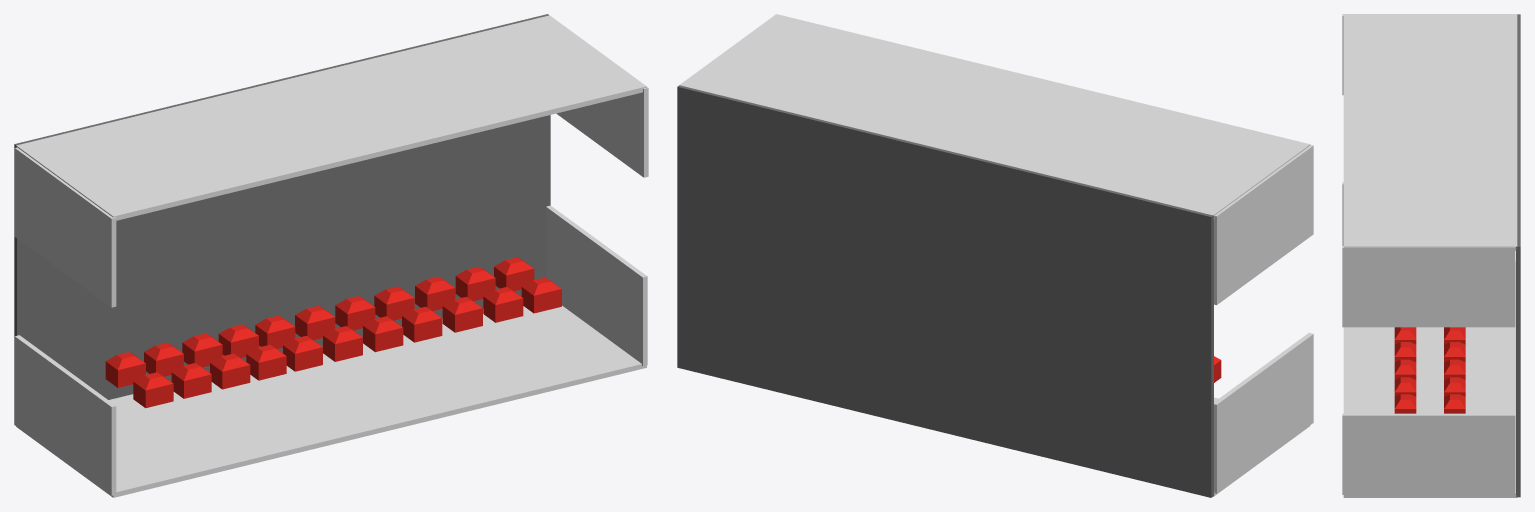
Rendered from molten.gltf.
The picture shows the model from 3 angles, left to right: view 1: azimuth 30°, elevation 25°; view 2: azimuth 150°, elevation 25°; view 3: azimuth 270°, elevation 25°; orthographic projection. The views are drawn at different scales.
Parts seen in each view (by area): view 1: Cube, Cube.002, Cube.001, Cube.018, Cube.005, Cube.003, Cube.004, Cube.006; view 2: Cube, Cube.002, Cube.005, Cube.003; view 3: Cube.002, Cube.004, Cube.006, Cube.001, Cube.018, Cube.
Boxes of the visible parts, x1=… form: Cube: x1=14, y1=14, x2=550, y2=426; Cube.002: x1=16, y1=15, x2=646, y2=220; Cube.001: x1=16, y1=305, x2=646, y2=497; Cube.018: x1=105, y1=257, x2=561, y2=408; Cube.005: x1=14, y1=335, x2=116, y2=495; Cube.003: x1=14, y1=147, x2=116, y2=307; Cube.004: x1=546, y1=205, x2=647, y2=365; Cube.006: x1=556, y1=87, x2=648, y2=177; Cube: x1=677, y1=85, x2=1213, y2=497; Cube.002: x1=679, y1=14, x2=1310, y2=219; Cube.005: x1=1214, y1=332, x2=1313, y2=493; Cube.003: x1=1214, y1=144, x2=1313, y2=305; Cube.002: x1=1343, y1=14, x2=1517, y2=250; Cube.004: x1=1342, y1=413, x2=1515, y2=494; Cube.006: x1=1342, y1=246, x2=1515, y2=327; Cube.001: x1=1343, y1=261, x2=1517, y2=497; Cube.018: x1=1394, y1=327, x2=1465, y2=413; Cube: x1=1516, y1=14, x2=1520, y2=497.
Bounding box in the file's own units: 6.05 × 3.03 × 1.95.
